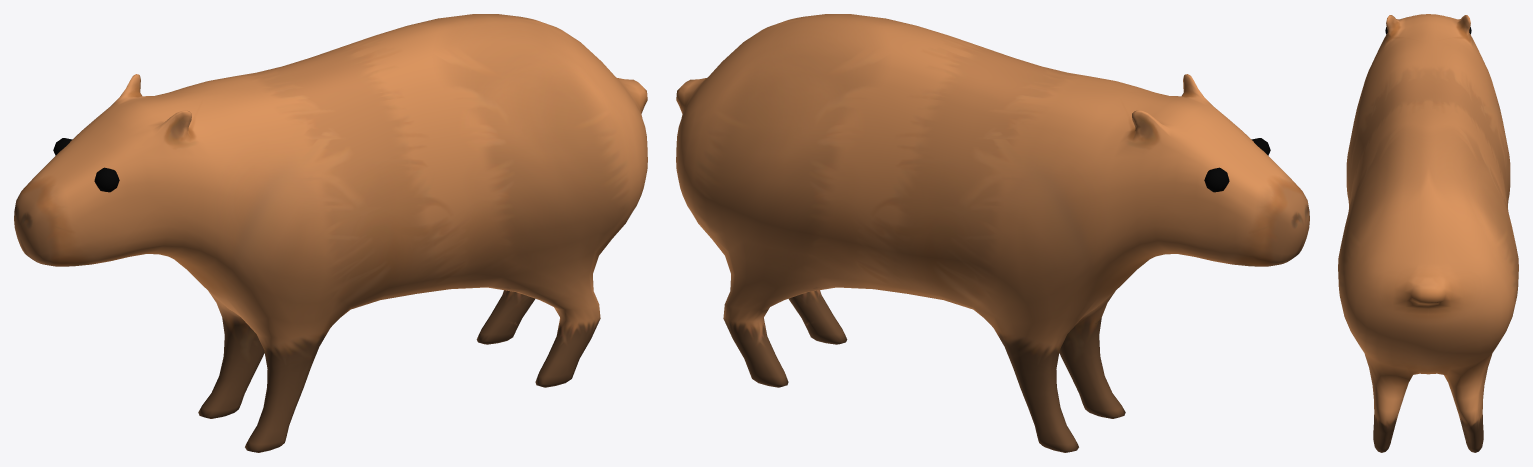
The model's file is capy.fbx.
3 renders of one model, left to right at view 1: azimuth 30°, elevation 25°; view 2: azimuth 150°, elevation 25°; view 3: azimuth 270°, elevation 25°, orthographic. The views are drawn at different scales.
Parts seen in each view (by area): view 1: Capy; view 2: Capy; view 3: Capy.
Part boxes in pixels (x1=…): Capy: x1=14, y1=14, x2=647, y2=452; Capy: x1=676, y1=14, x2=1309, y2=452; Capy: x1=1338, y1=14, x2=1518, y2=452.
Size of the model in its own units: 165 by 91 by 51.47.
Materials: 2 (1 with a texture image).
